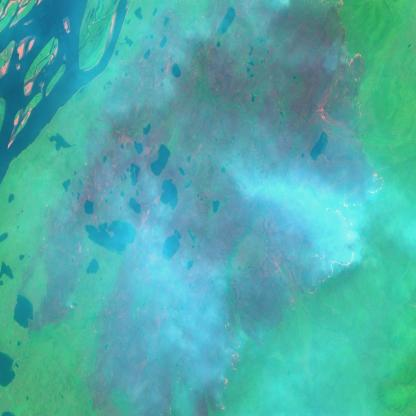fire: (286, 166, 388, 310), (312, 0, 370, 135), (204, 336, 244, 412)
